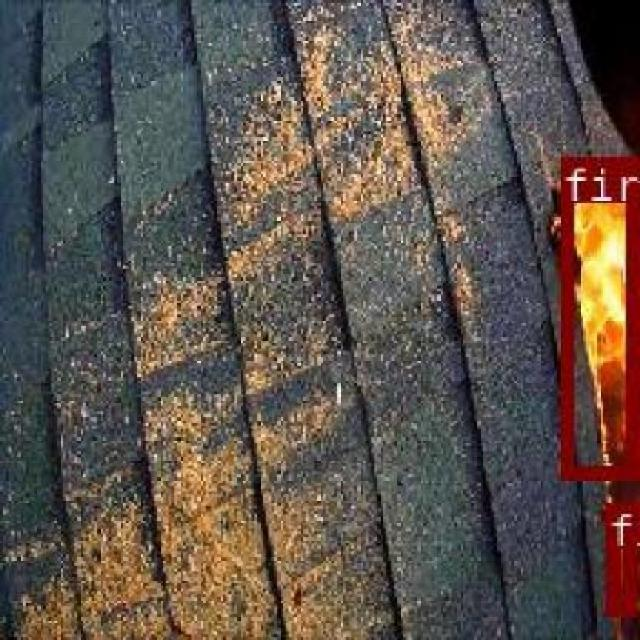CIV_Plane: (557, 157, 634, 474)
Fire: (29, 111, 618, 558), (557, 157, 634, 474)
